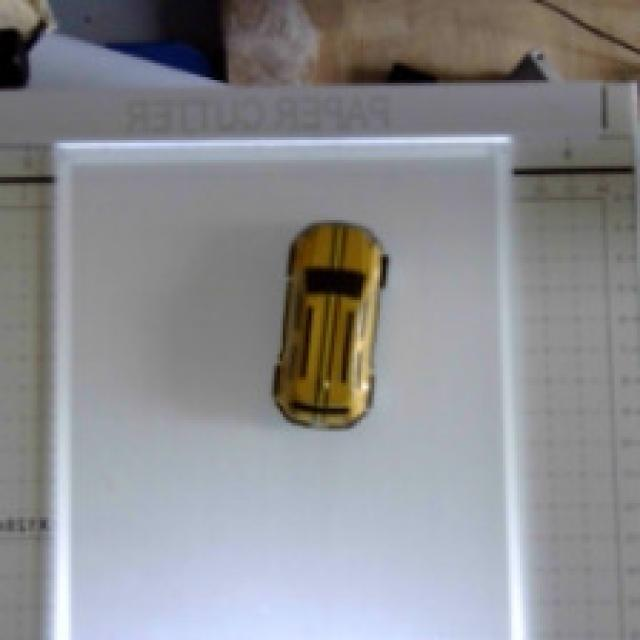Yellow Car: (217, 180, 404, 460)
